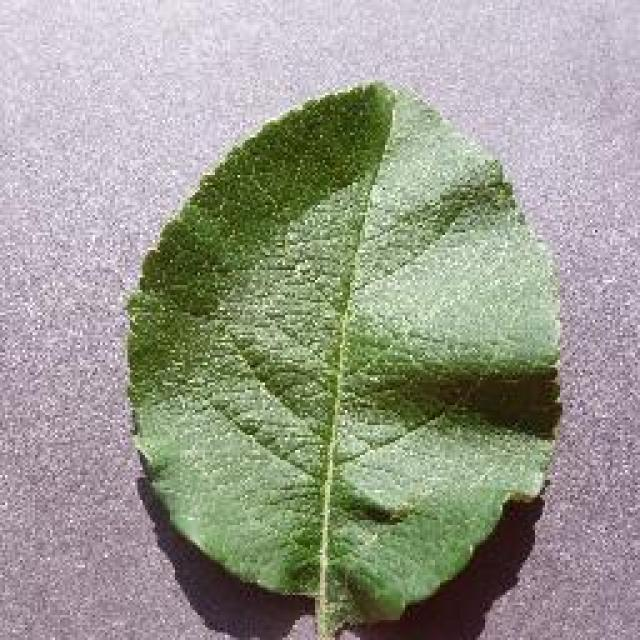Apple___healthy: (110, 65, 578, 640)
